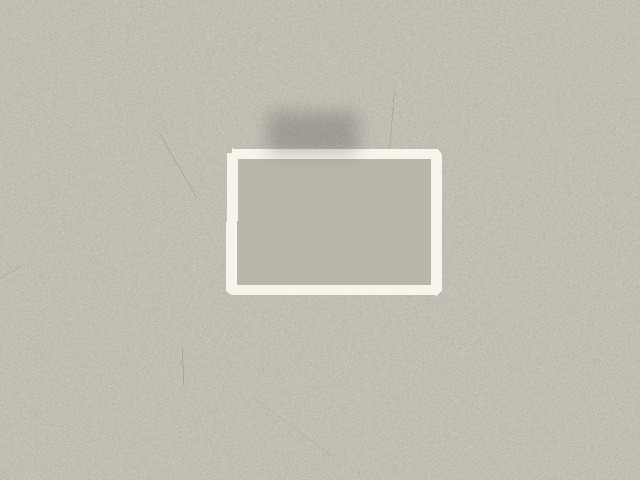parking_area: (231, 153, 436, 290)
